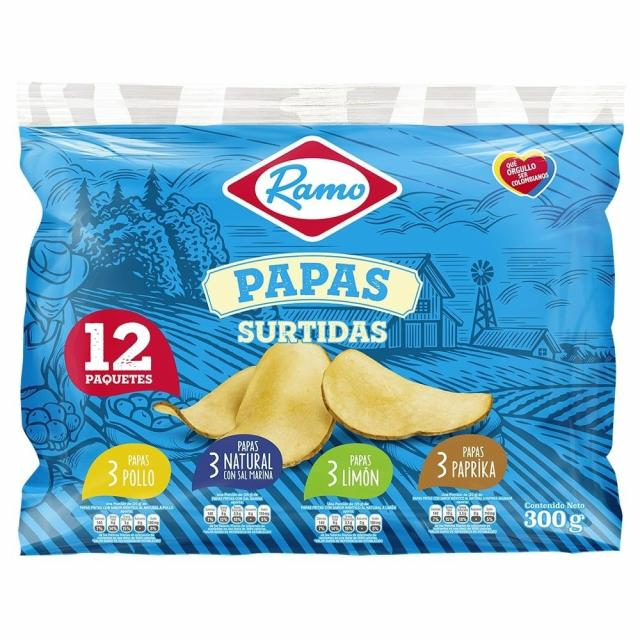Paquete: (16, 78, 622, 554)
